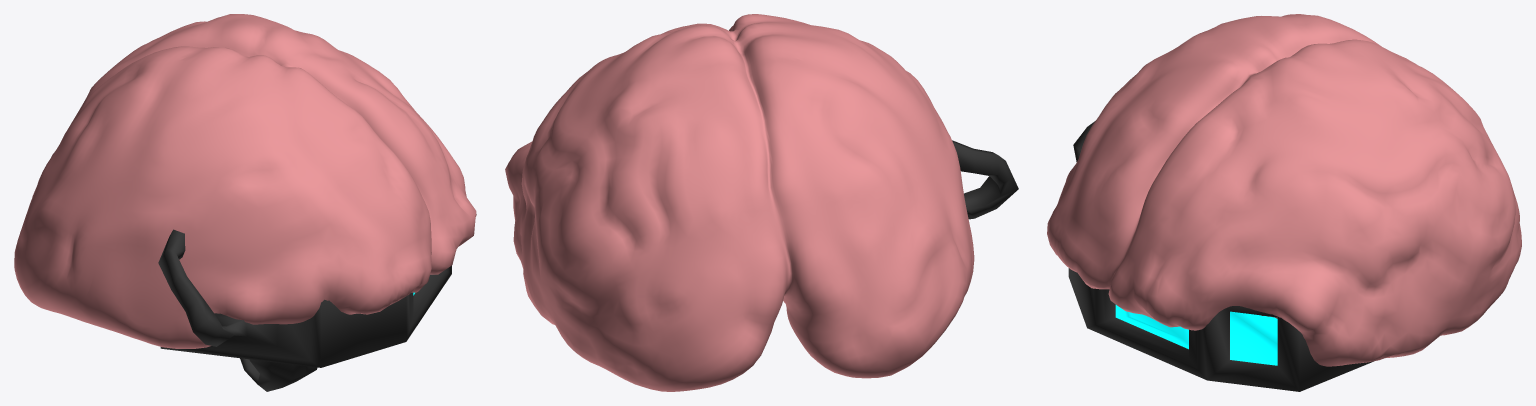
File: CerebroCyborg.glb
3 views of the same model, side by side, from view 1: azimuth 30°, elevation 25°; view 2: azimuth 150°, elevation 25°; view 3: azimuth 270°, elevation 25° (orthographic). The views are drawn at different scales.
Visible parts, largest first — view 1: Mesh0, Cube; view 2: Mesh0, Cube; view 3: Mesh0, Cube.
Boxes of the visible parts, box(x1,y1,x2,y2) form: Mesh0: box(14, 14, 476, 348); Cube: box(158, 229, 451, 391); Mesh0: box(505, 14, 974, 391); Cube: box(952, 140, 1018, 219); Mesh0: box(1047, 14, 1521, 366); Cube: box(1068, 121, 1373, 391).
Size of the model in its own units: 207 by 147 by 203.
